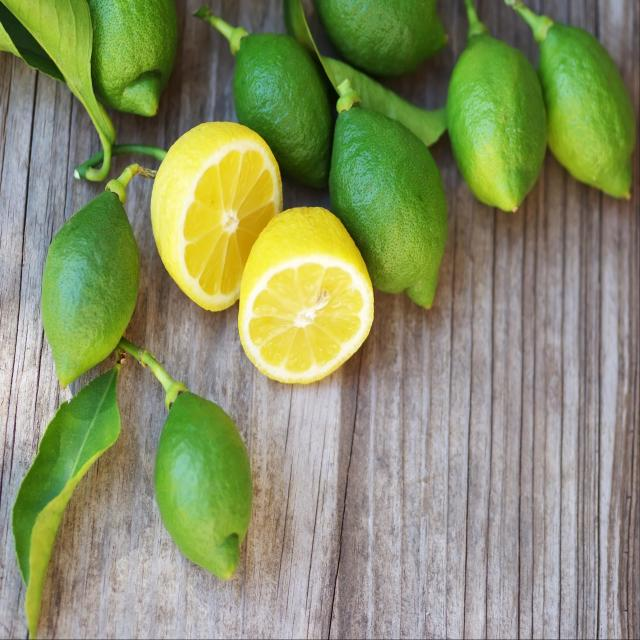lemon: (236, 204, 378, 388)
